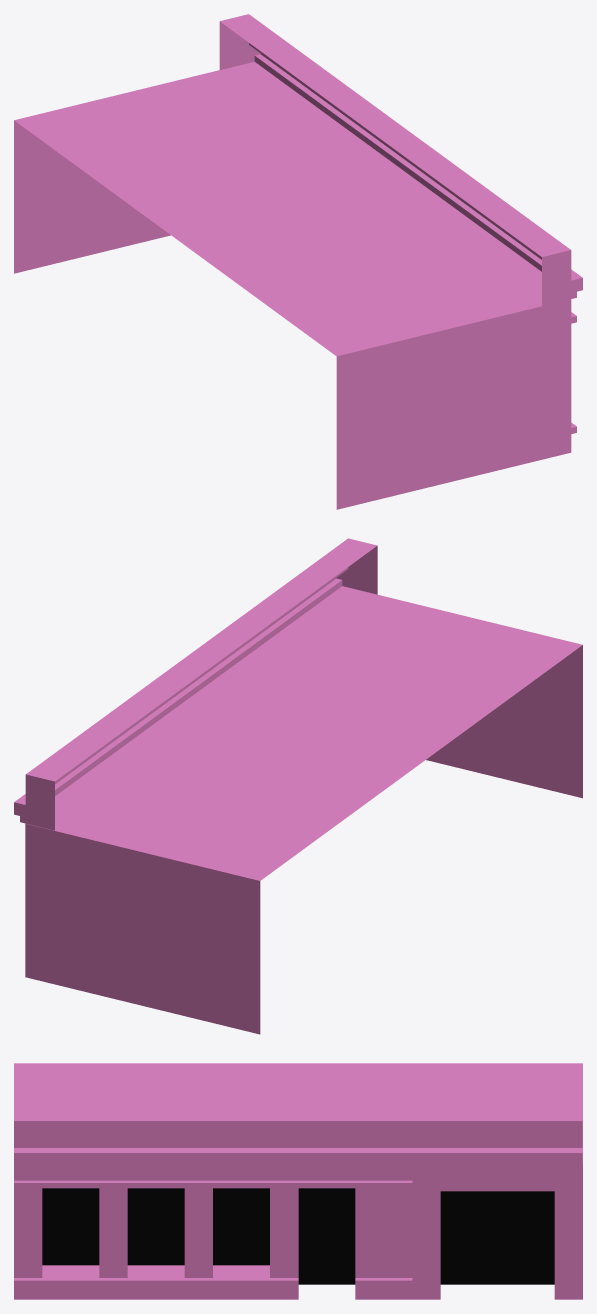
The model's file is Edificio-3.fbx.
3 views of the same model, one above another, from view 1: azimuth 30°, elevation 25°; view 2: azimuth 150°, elevation 25°; view 3: azimuth 270°, elevation 25° (orthographic). The views are drawn at different scales.
Parts seen in each view (by area): view 1: Plane; view 2: Plane; view 3: Plane.
Part boxes in pixels (<box>): Plane: <box>14,14,582,509</box>; Plane: <box>14,538,582,1034</box>; Plane: <box>14,1063,582,1299</box>.
Bounding box in the file's own units: 420 × 330 × 952.
